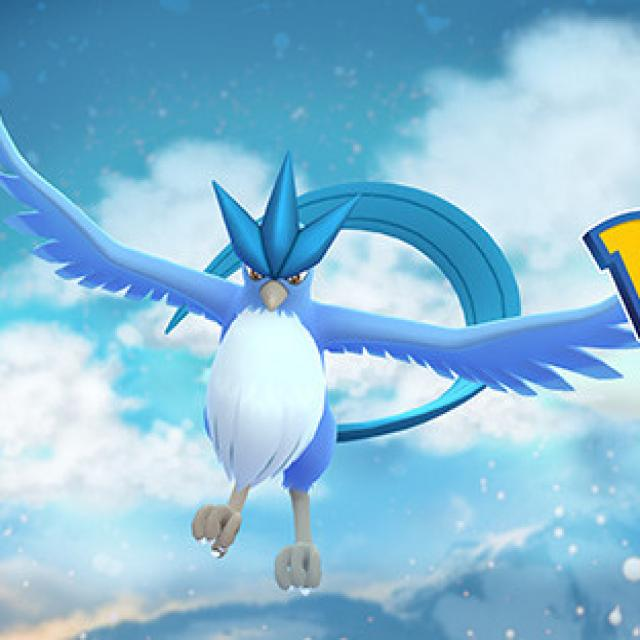Articuno: (118, 154, 483, 520)
